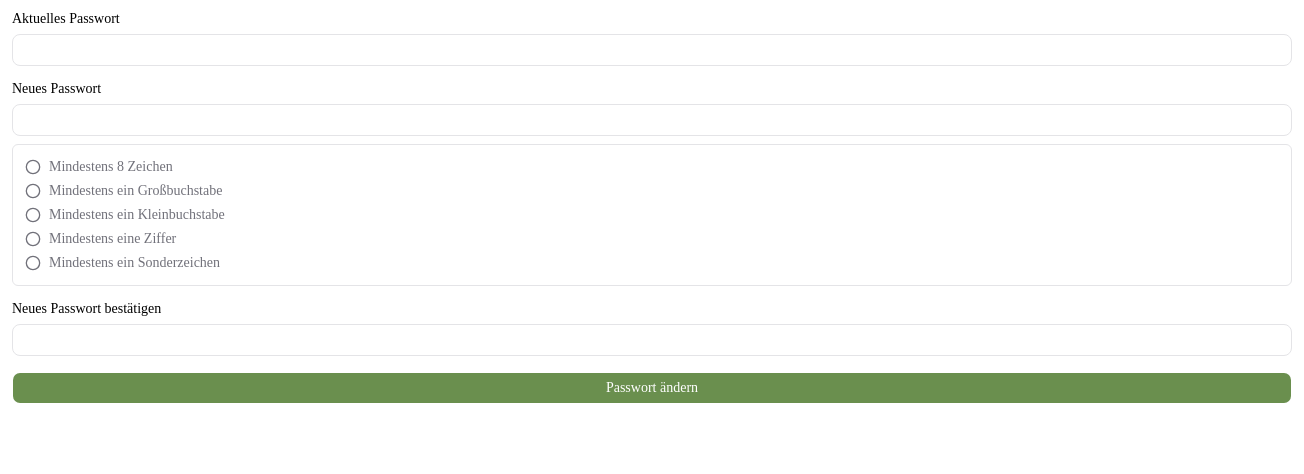
Test case: ChangePasswordForm › same-as-current renders the generic destructive Alert
The width and height of the screenshot is (1304, 474).
Type "OldSecret1!" into the password field labelled "Aktuelles Passwort" at (652, 50), box x1=12 y1=34 x2=1292 y2=66
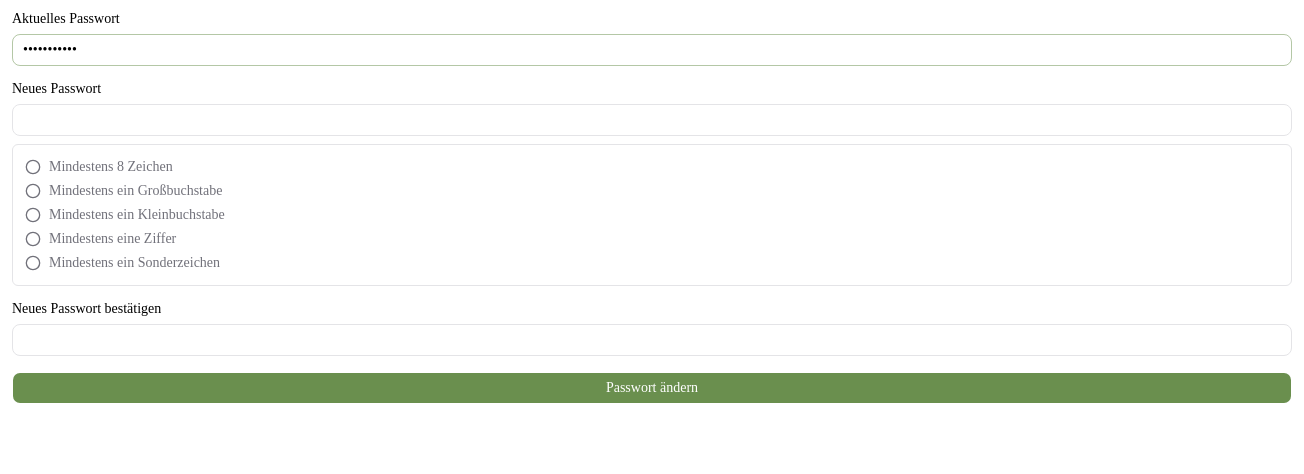
Type "Abc12345!" into the password field labelled "Neues Passwort" at (652, 120), box x1=12 y1=104 x2=1292 y2=136
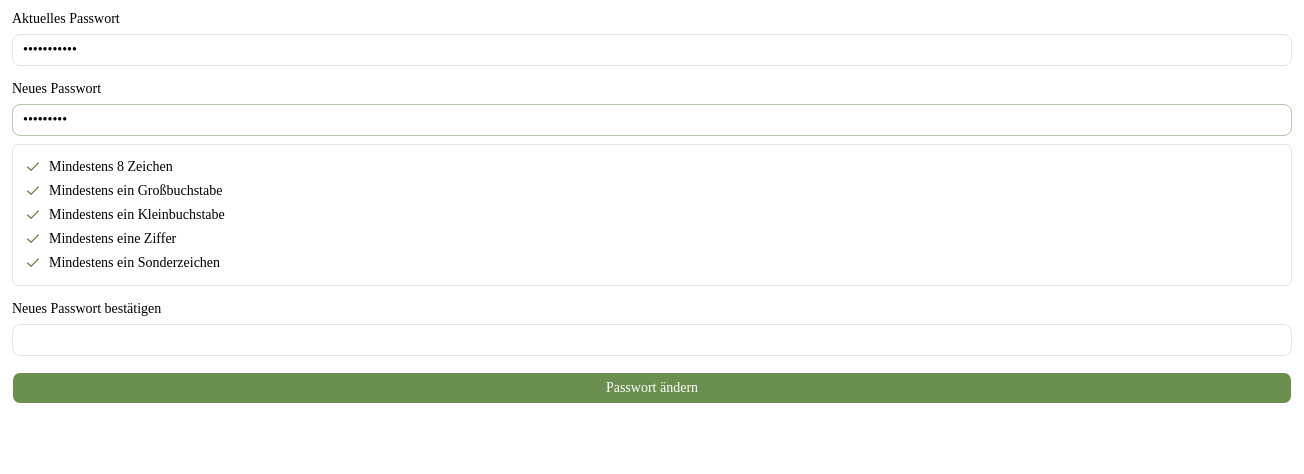
Type "Abc12345!" into the password field labelled "Neues Passwort bestätigen" at (652, 340), box x1=12 y1=324 x2=1292 y2=356
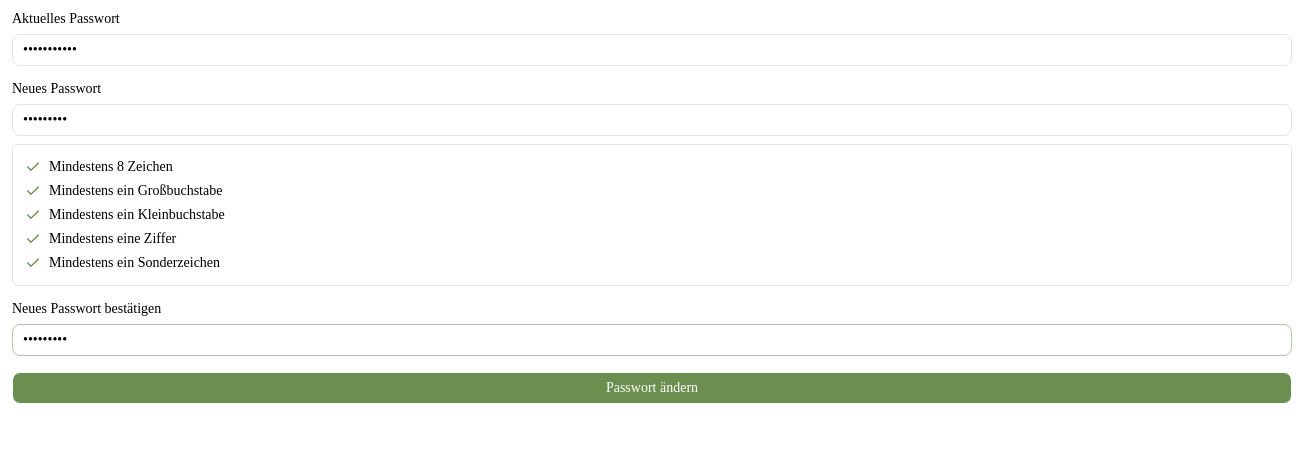
Click the button "Passwort ändern" at (652, 388), box x1=12 y1=372 x2=1292 y2=404
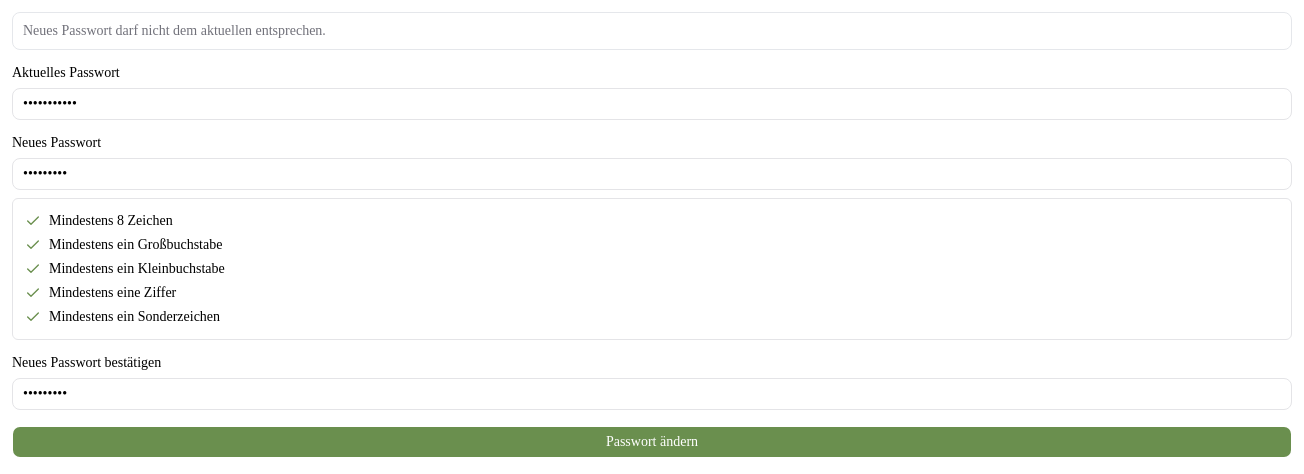
expect the text "Neues Passwort darf nicht dem aktuellen entsprechen." is shown: met, box x1=23 y1=23 x2=326 y2=38
